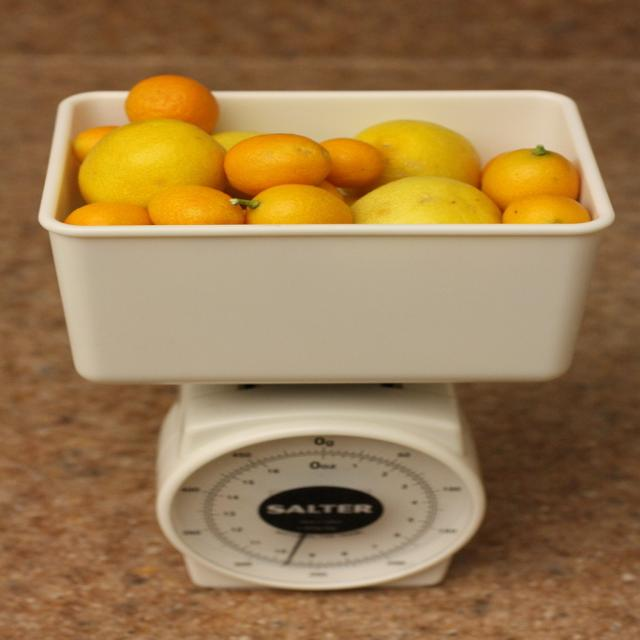Lemon: (78, 74, 580, 224), (71, 114, 218, 202)
